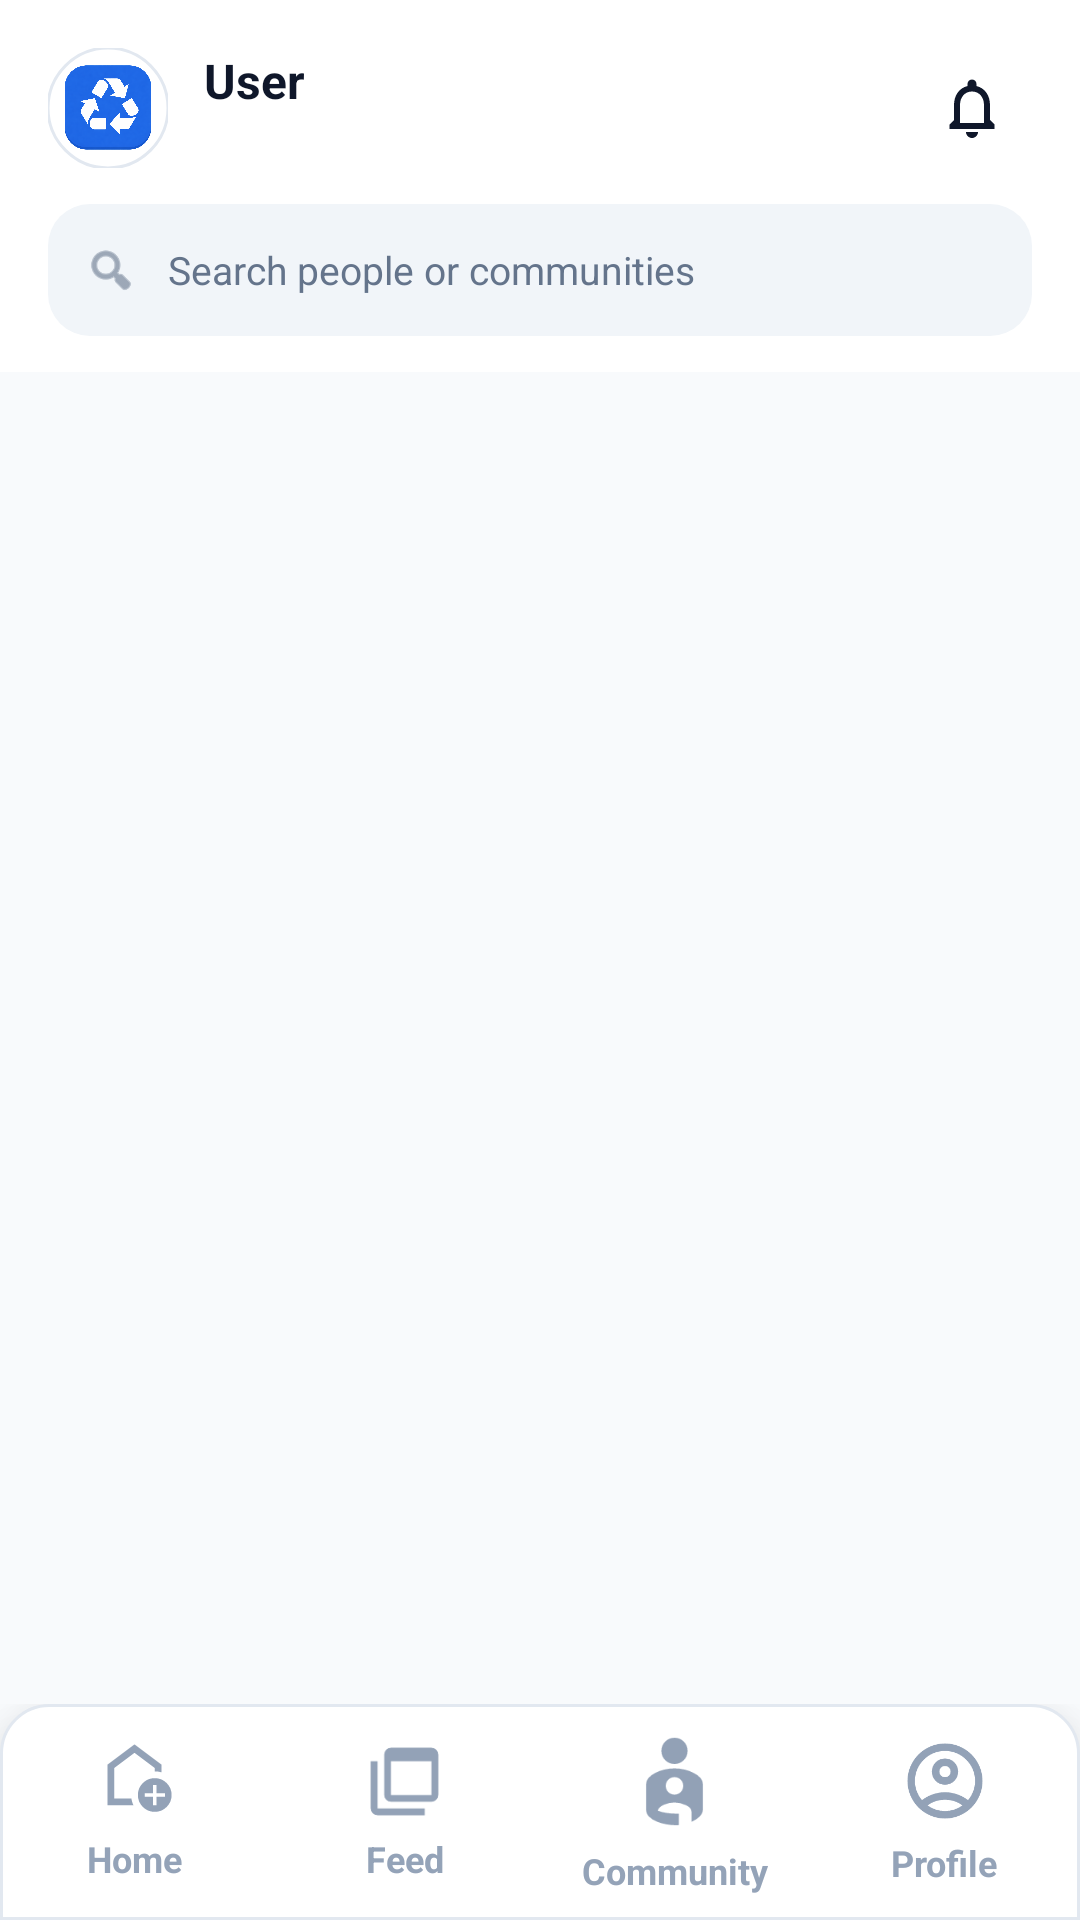

Named icons in this screenshot (1080×1920) and their bounding boxes, (x1, y1, x2, y2):
notification: (949, 79, 995, 138)
